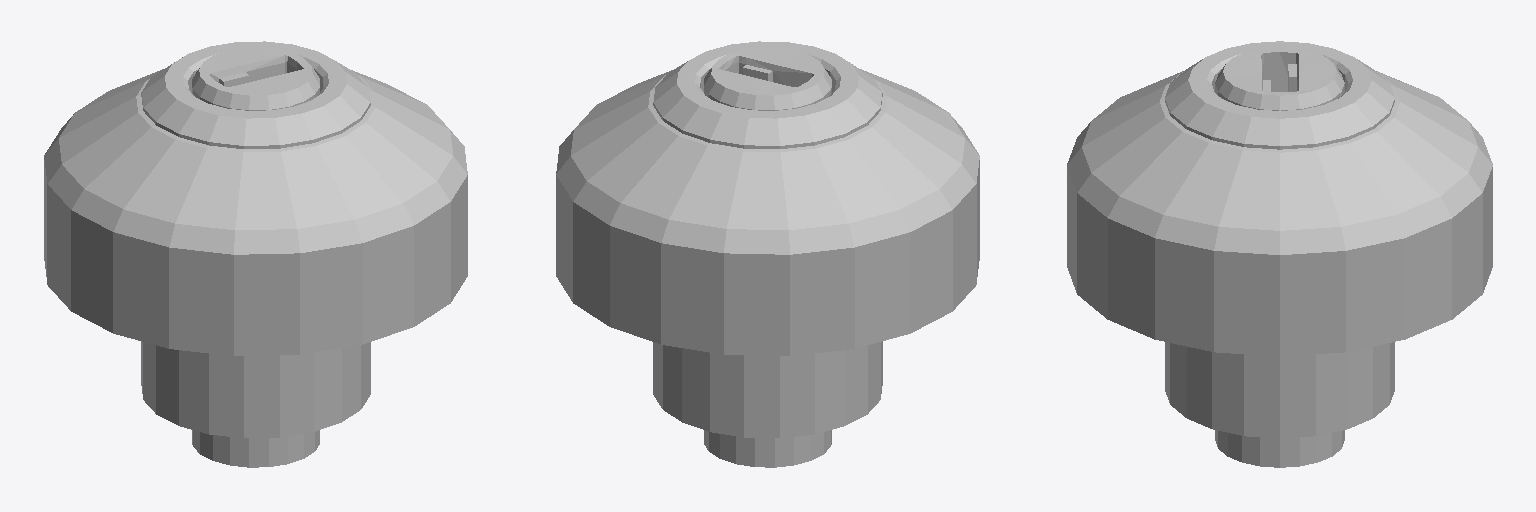
The model's file is keyhole.obj.
The picture shows the model from 3 angles: view 1: azimuth 30°, elevation 25°; view 2: azimuth 150°, elevation 25°; view 3: azimuth 270°, elevation 25°; orthographic projection.
Visible parts, largest first — view 1: Key_Hole_02; view 2: Key_Hole_02; view 3: Key_Hole_02.
Boxes of the visible parts, <box> form: Key_Hole_02: <box>44,41,467,467</box>; Key_Hole_02: <box>556,41,979,467</box>; Key_Hole_02: <box>1067,41,1492,467</box>.
Bounding box in the file's own units: 6.21 × 5.93 × 6.21.